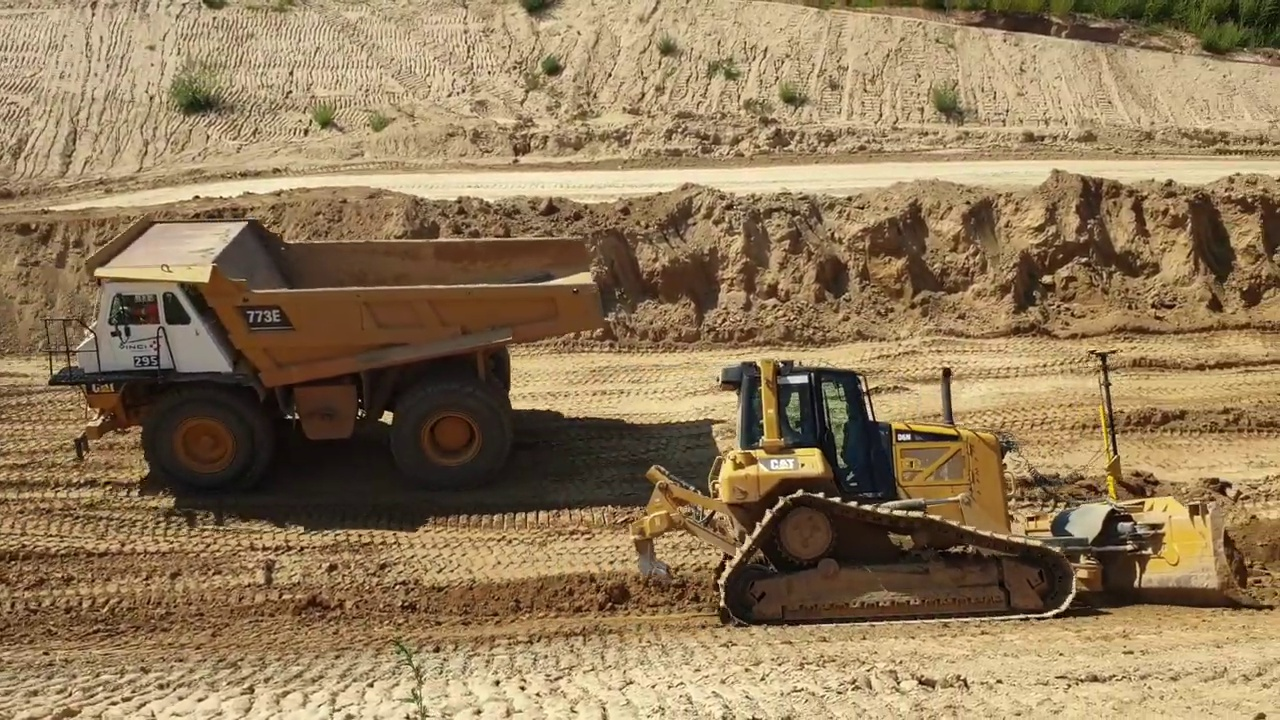bulldozer: (626, 344, 1247, 634)
truck: (36, 210, 612, 500)
